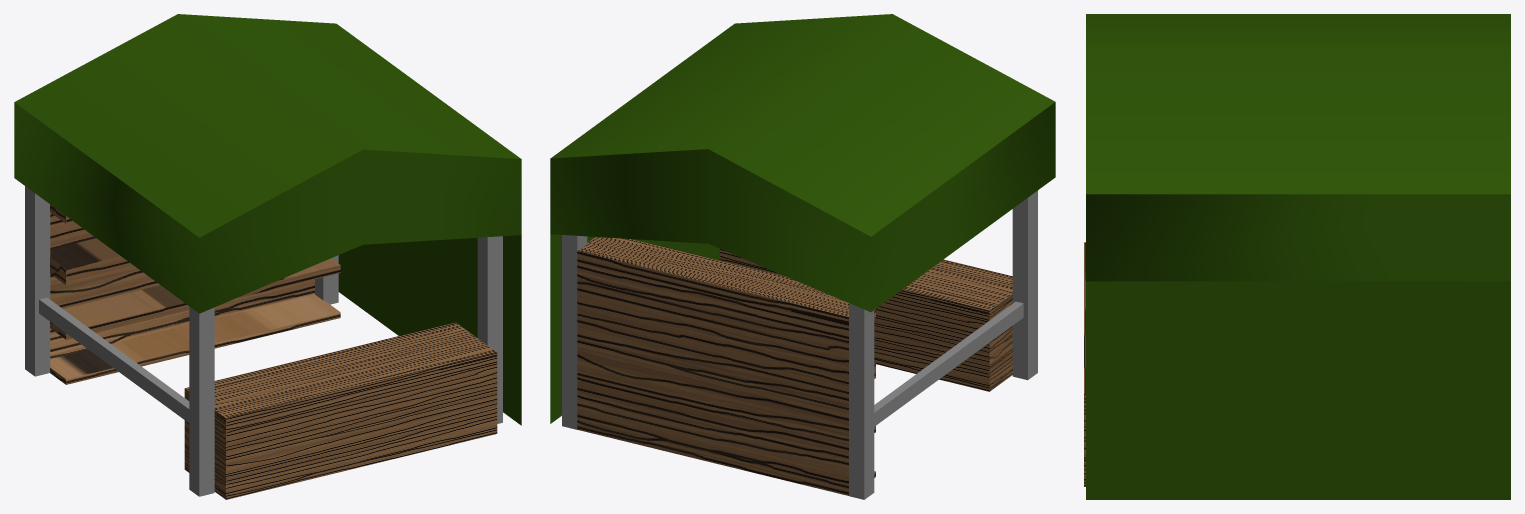
The model's file is EmptyVendorStand.fbx.
3 renders of one model, left to right at view 1: azimuth 30°, elevation 25°; view 2: azimuth 150°, elevation 25°; view 3: azimuth 270°, elevation 25°, orthographic. The views are drawn at different scales.
Visible parts, largest first — view 1: Box001, Box006, Box007, Box005, Box002, Box008, Box004, Box003; view 2: Box001, Box007, Box006, Box002, Box005, Box008, Box003; view 3: Box001, Box006.
Part boxes in pixels (x1,y1,x2,y2): Box001: (14, 14, 521, 425); Box006: (184, 322, 497, 499); Box007: (50, 204, 340, 384); Box005: (189, 306, 214, 496); Box002: (25, 186, 50, 376); Box008: (39, 297, 189, 422); Box004: (477, 236, 502, 423); Box003: (315, 255, 338, 304); Box001: (550, 14, 1055, 423); Box007: (577, 237, 875, 495); Box006: (719, 249, 1012, 391); Box002: (849, 303, 874, 499); Box005: (1012, 190, 1037, 380); Box008: (874, 301, 1023, 426); Box003: (562, 235, 587, 429); Box001: (1086, 14, 1510, 499); Box006: (1084, 242, 1085, 486).
Size of the model in its own units: 39.19 by 36.74 by 39.21.
2 materials, 2 textured.
